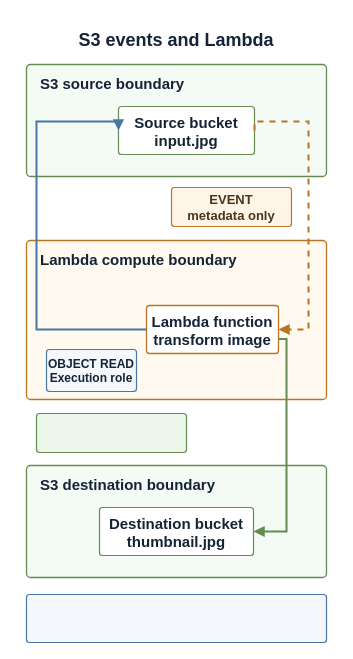
This 353x659 diagram has some shape labels left out. The box of each missing label's shape, as (x1, y1, x2, y2) in pixels:
RESULT WRITE Lambda writes output: (35, 412, 187, 453)
The event identifies the object. The function reads the object from S3.: (25, 593, 327, 643)
